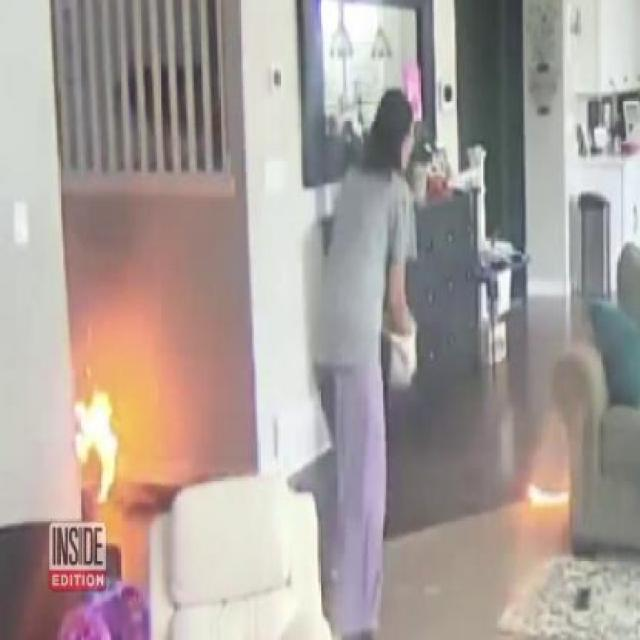fire: (56, 324, 132, 514), (518, 468, 572, 510)
